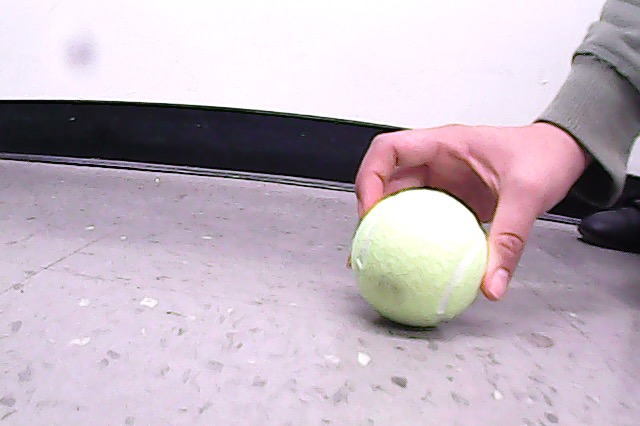ball: (353, 187, 488, 327)
